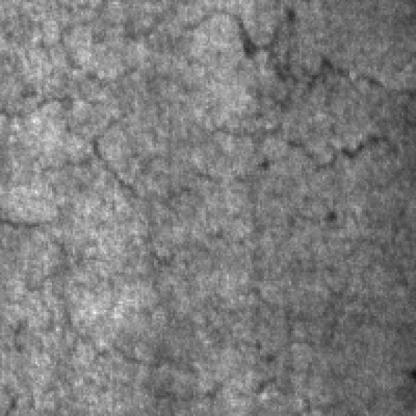crazing: (185, 17, 410, 179), (4, 108, 141, 374)
